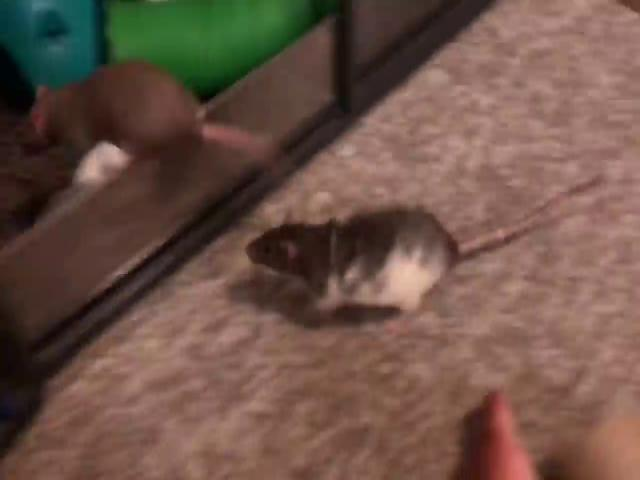Tikus: (15, 61, 279, 169), (245, 208, 524, 308)
